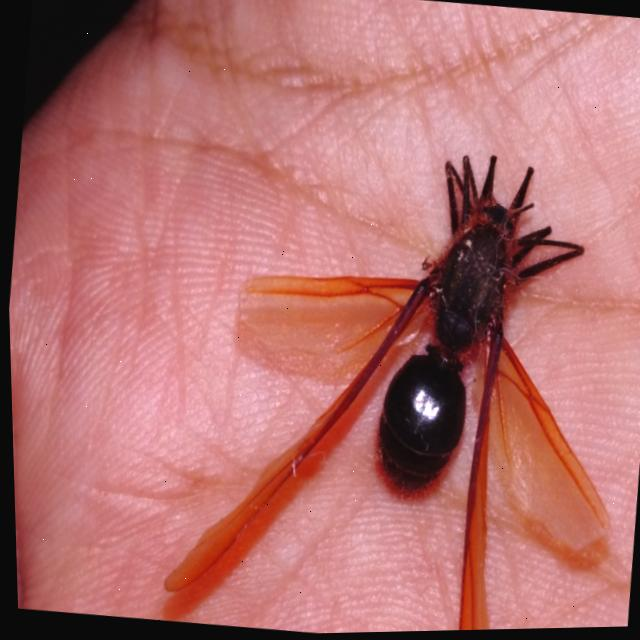Dead-Male-Alate: (143, 125, 640, 638)
